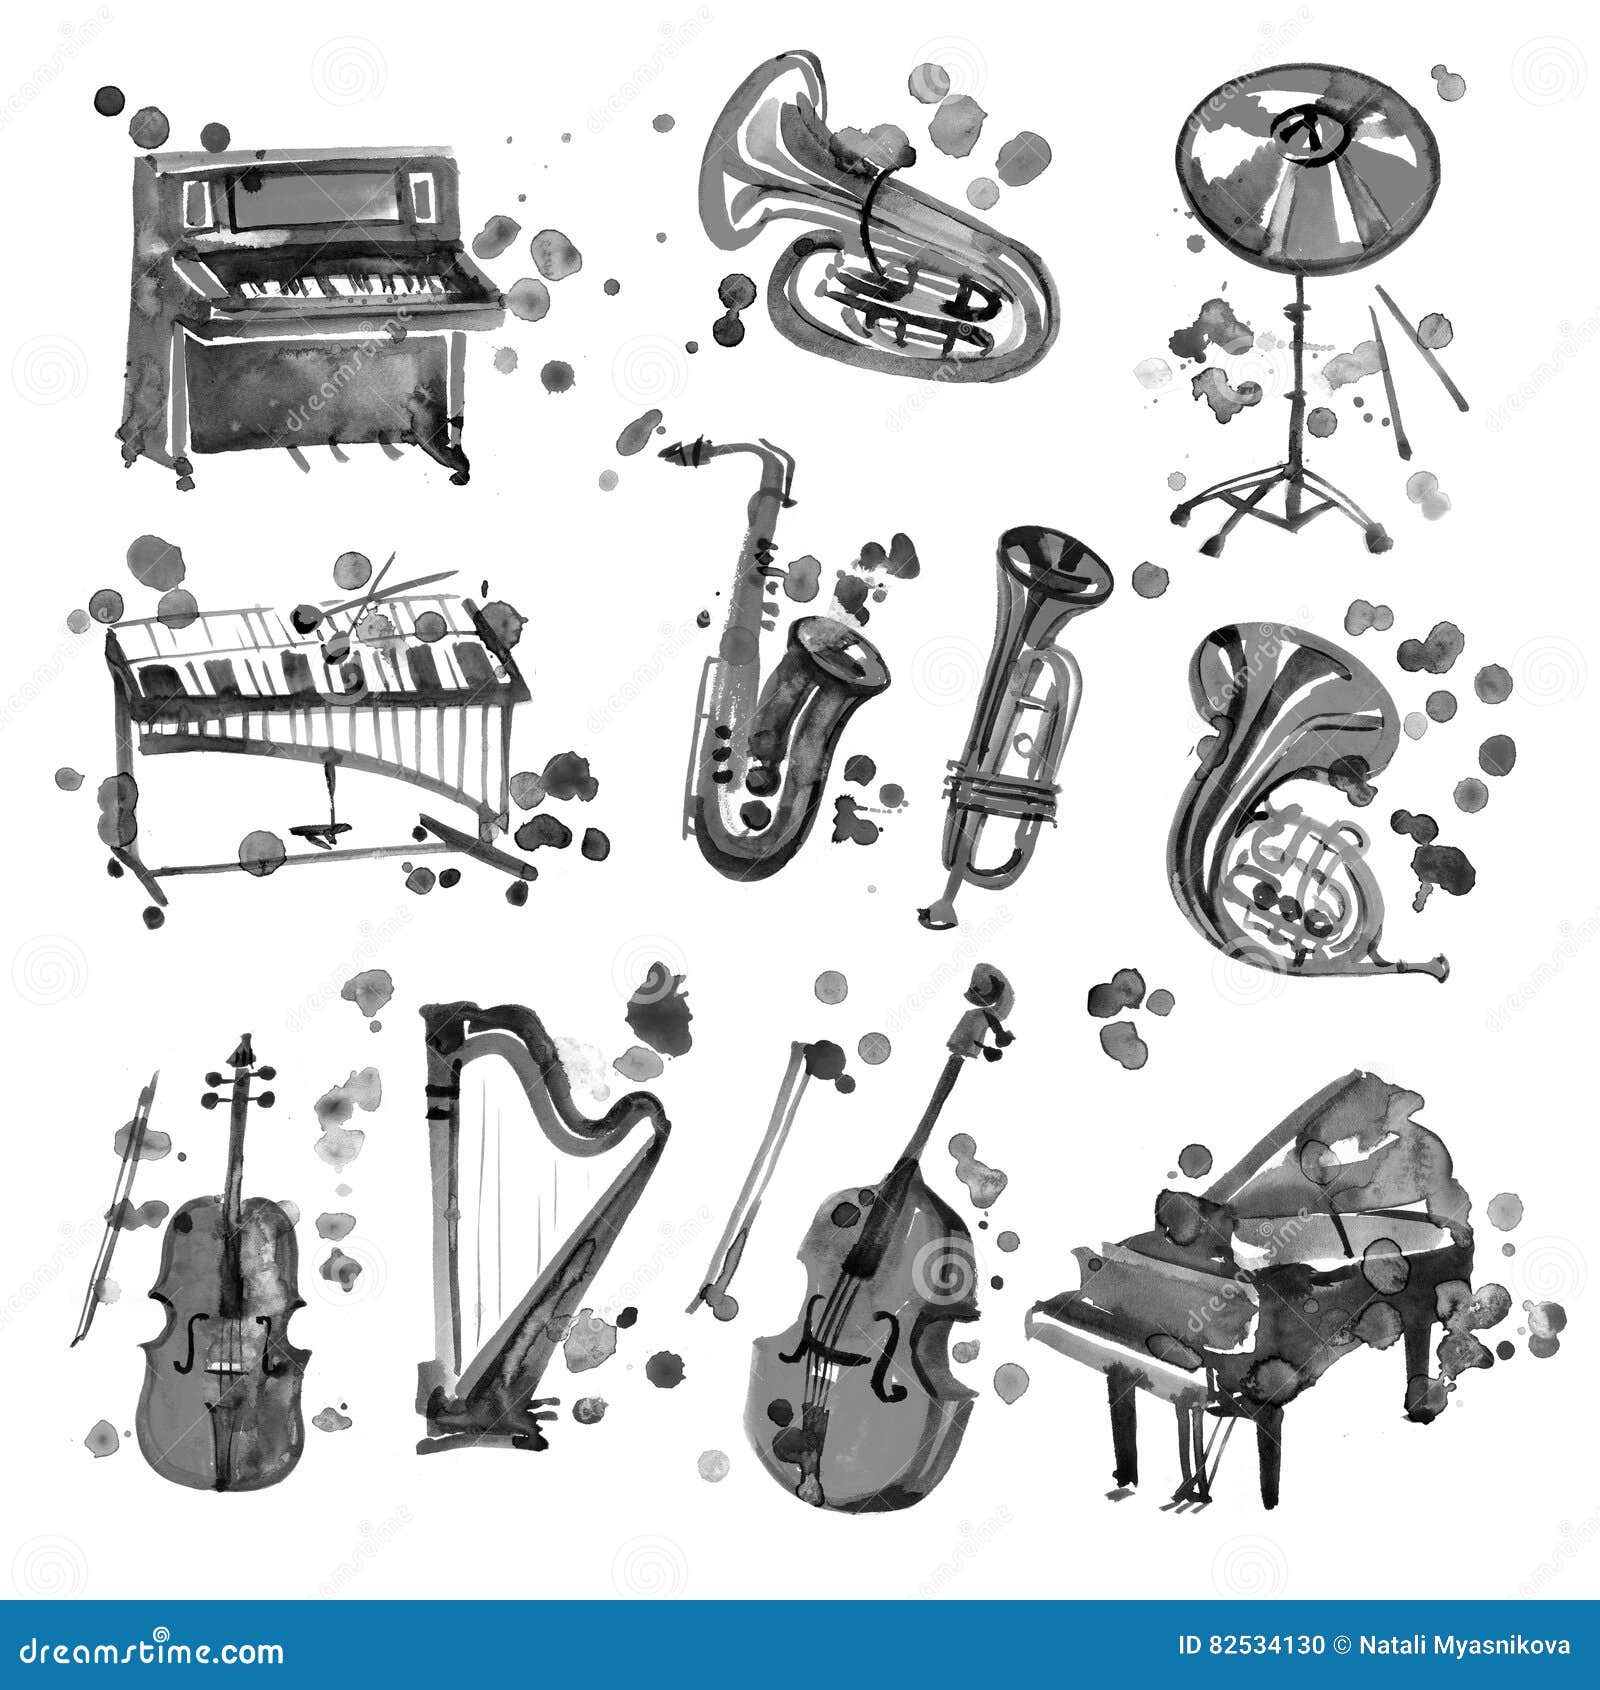Piano: (1041, 1052, 1520, 1550), (102, 81, 577, 537)
Saxophone: (620, 410, 905, 917)
Violin: (687, 940, 1117, 1576), (23, 958, 353, 1586)
